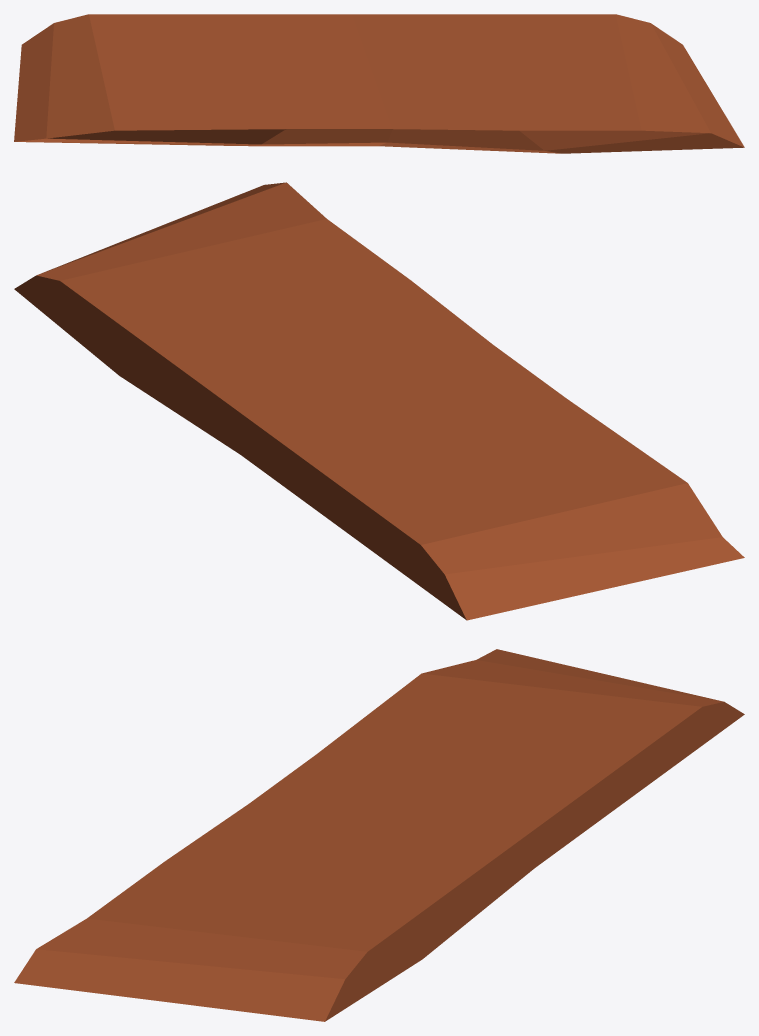
File: connection_00_3.fbx
The picture shows the model from 3 angles, top to bottom: view 1: azimuth 30°, elevation 25°; view 2: azimuth 150°, elevation 25°; view 3: azimuth 270°, elevation 25°; orthographic projection. The views are drawn at different scales.
Parts seen in each view (by area): view 1: redroadConnector; view 2: redroadConnector; view 3: redroadConnector.
Part boxes in pixels (left/top/right/bottom): redroadConnector: left=14, top=14, right=744, bottom=153; redroadConnector: left=14, top=182, right=744, bottom=620; redroadConnector: left=14, top=649, right=744, bottom=1021.
Size of the model in its own units: 36.79 by 2.2 by 30.48.
